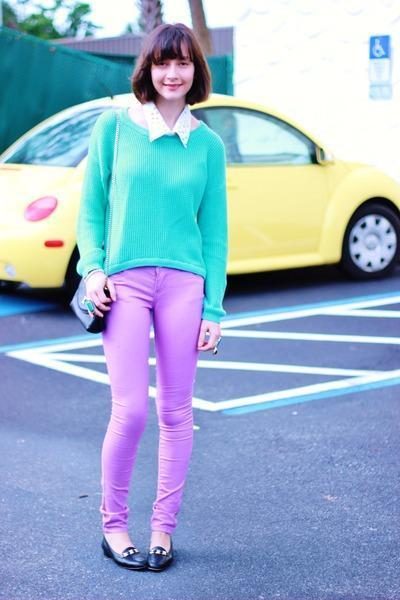bag: (71, 276, 107, 332)
jacket: (76, 108, 227, 323)
pants: (84, 267, 207, 532)
shoe: (101, 540, 175, 572)
